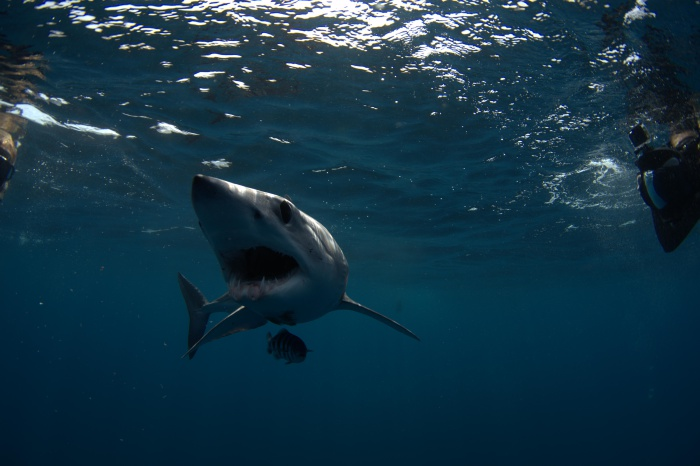Mako: (158, 157, 454, 381)
